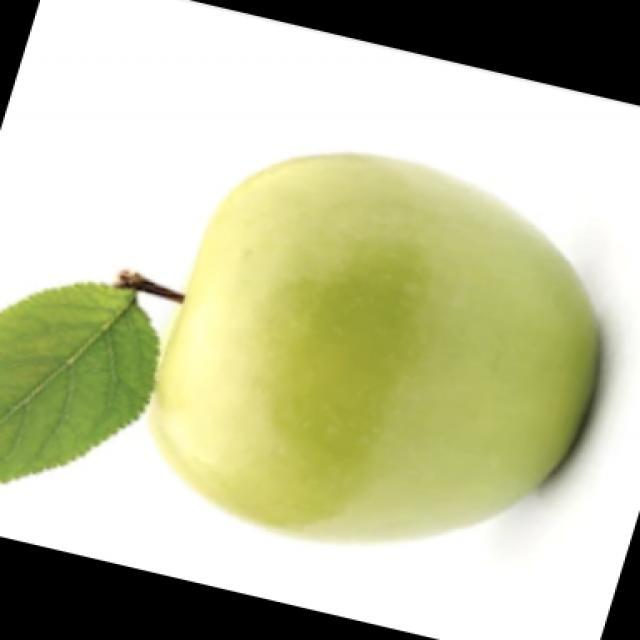Fresh Apple: (170, 148, 608, 547)
